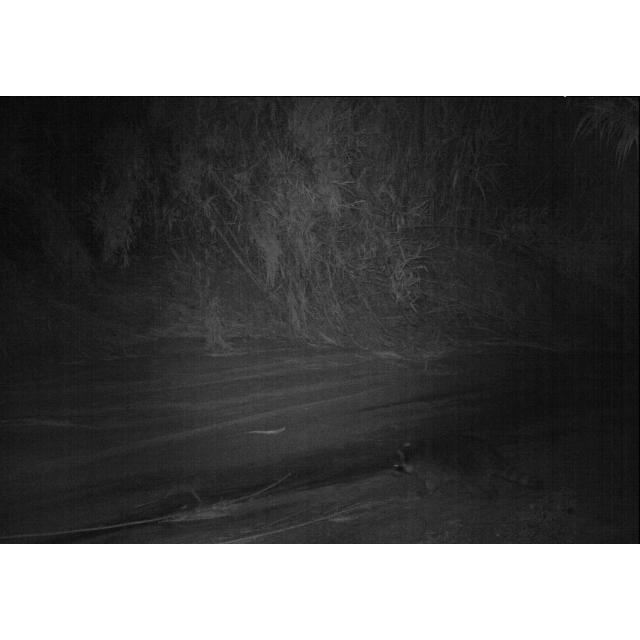animals: (392, 428, 542, 500)
